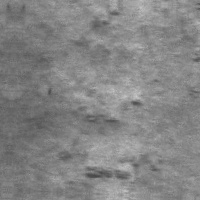rolled-in_scale: (73, 93, 143, 187), (52, 142, 160, 184), (69, 7, 122, 53)
